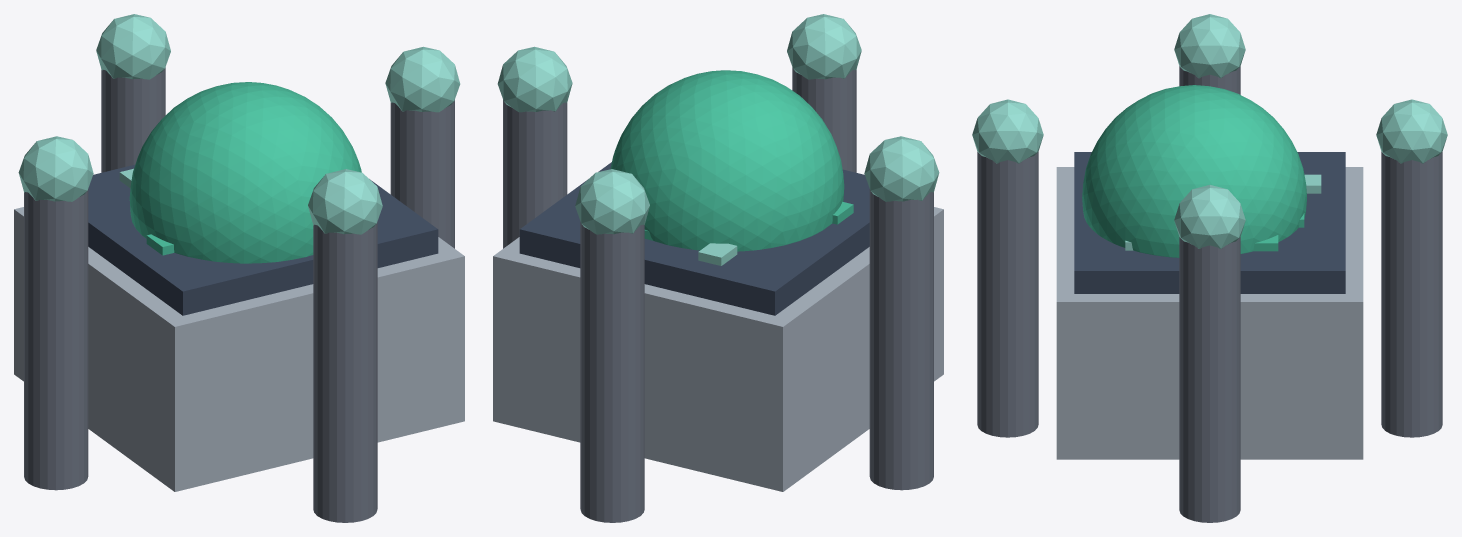
The model's file is aux-guard.glb.
The picture shows the model from 3 angles, left to right: view 1: azimuth 30°, elevation 25°; view 2: azimuth 150°, elevation 25°; view 3: azimuth 270°, elevation 25°; orthographic projection. The views are drawn at different scales.
Visible parts, largest first — view 1: part000, part002, part006, part008, part001, part004, part010, part005, part007, part011, part009; view 2: part000, part002, part010, part008, part001, part004, part005, part011, part007, part009, part006, part018; view 3: part000, part002, part006, part010, part004, part001, part007, part011, part009, part005, part008.
Boxes of the visible parts, box(x1,y1,x2,y2) form: part000: box(14, 207, 464, 491); part002: box(129, 82, 361, 263); part006: box(313, 221, 377, 522); part008: box(24, 189, 88, 490); part001: box(88, 164, 438, 315); part004: box(390, 100, 454, 248); part010: box(101, 67, 165, 172); part005: box(385, 46, 460, 112); part007: box(308, 169, 382, 234); part011: box(96, 14, 170, 79); part009: box(18, 136, 93, 201); part000: box(493, 207, 943, 491); part002: box(610, 70, 844, 251); part010: box(580, 221, 644, 522); part008: box(869, 189, 933, 490); part001: box(519, 162, 869, 315); part004: box(503, 100, 567, 248); part005: box(497, 46, 572, 112); part011: box(575, 169, 649, 234); part007: box(787, 14, 861, 79); part009: box(864, 136, 939, 201); part006: box(792, 67, 856, 172); part018: box(698, 243, 737, 265); part000: box(1056, 167, 1363, 459); part002: box(1082, 85, 1306, 257); part006: box(977, 151, 1038, 437); part010: box(1381, 151, 1442, 437); part004: box(1179, 237, 1240, 522); part001: box(1074, 152, 1345, 293); part007: box(972, 99, 1043, 163); part011: box(1376, 99, 1447, 163); part009: box(1174, 14, 1245, 78); part005: box(1174, 185, 1245, 248); part008: box(1179, 66, 1240, 94).
Size of the model in its own units: 1.86 by 1.42 by 1.86.
